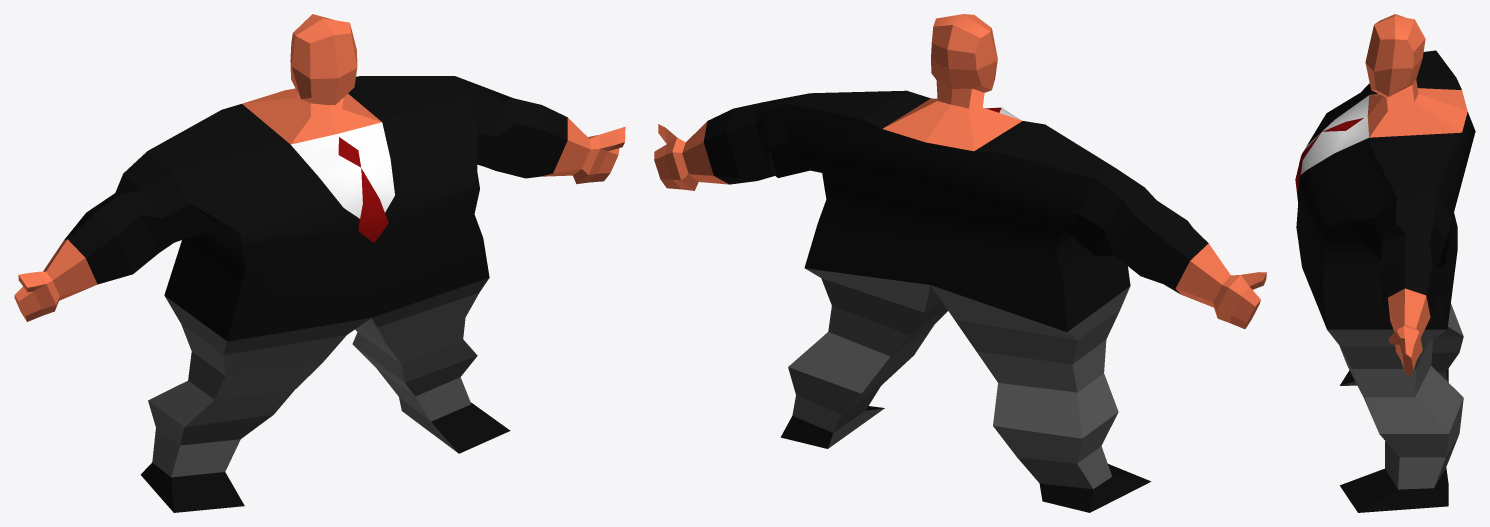
Rendered from vendedor.fbx.
3 views of the same model, side by side, from view 1: azimuth 30°, elevation 25°; view 2: azimuth 150°, elevation 25°; view 3: azimuth 270°, elevation 25° (orthographic). The views are drawn at different scales.
Parts seen in each view (by area): view 1: Box006; view 2: Box006; view 3: Box006.
Boxes of the visible parts, box(x1,y1,x2,y2) form: Box006: box(14, 14, 625, 512); Box006: box(654, 14, 1266, 512); Box006: box(1295, 14, 1475, 512).
Size of the model in its own units: 2.44 by 1.69 by 0.6579.
